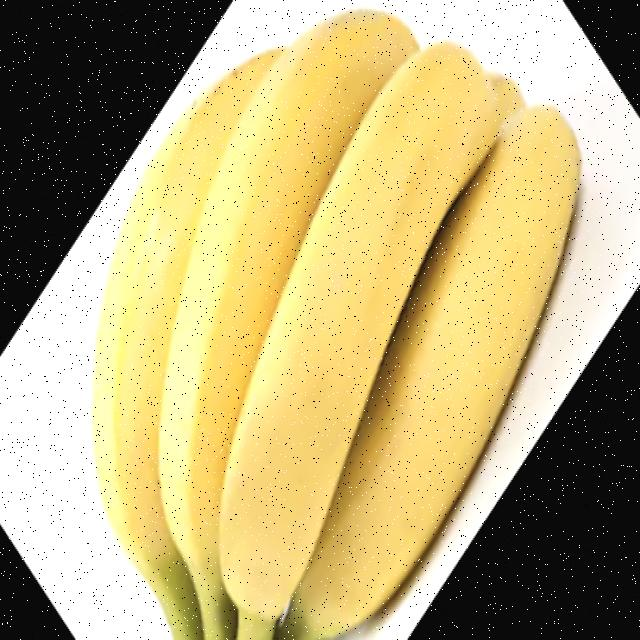god quality banana: (93, 11, 582, 640)
